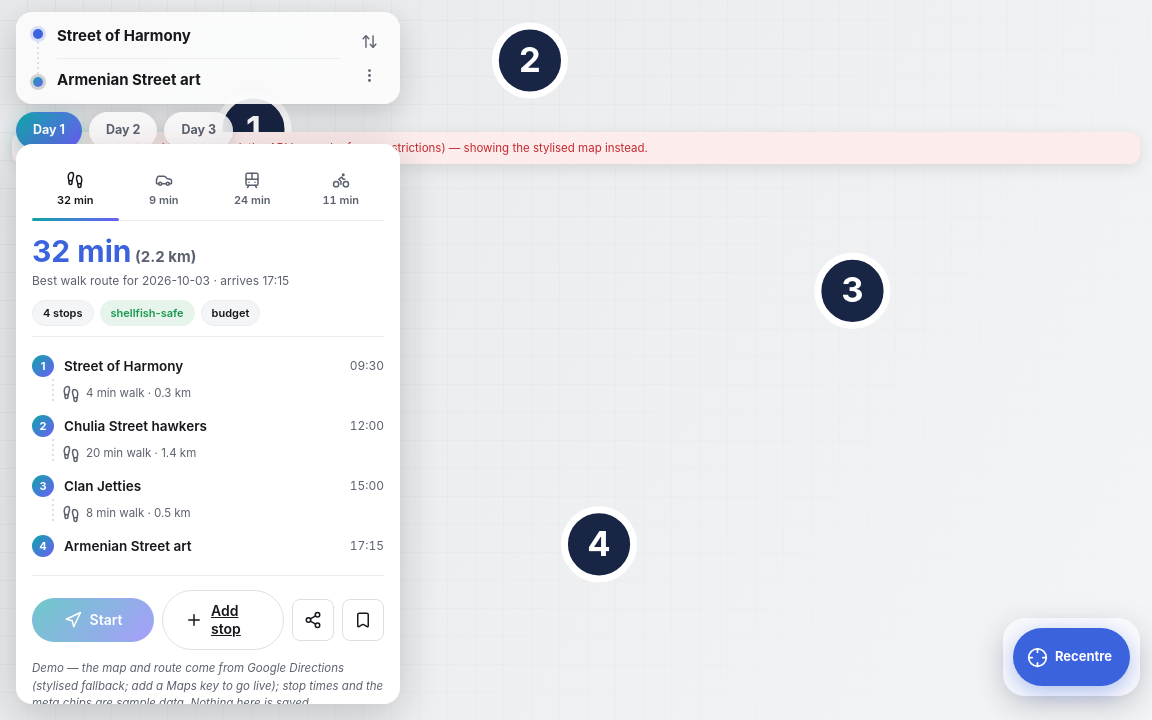
Test case: DemoMap route screen (no Maps key → fallback chrome) › re-times the summary when the travel mode changes
Click the tab with aria-label "Drive" at (164, 191), box x1=120 y1=162 x2=207 y2=220
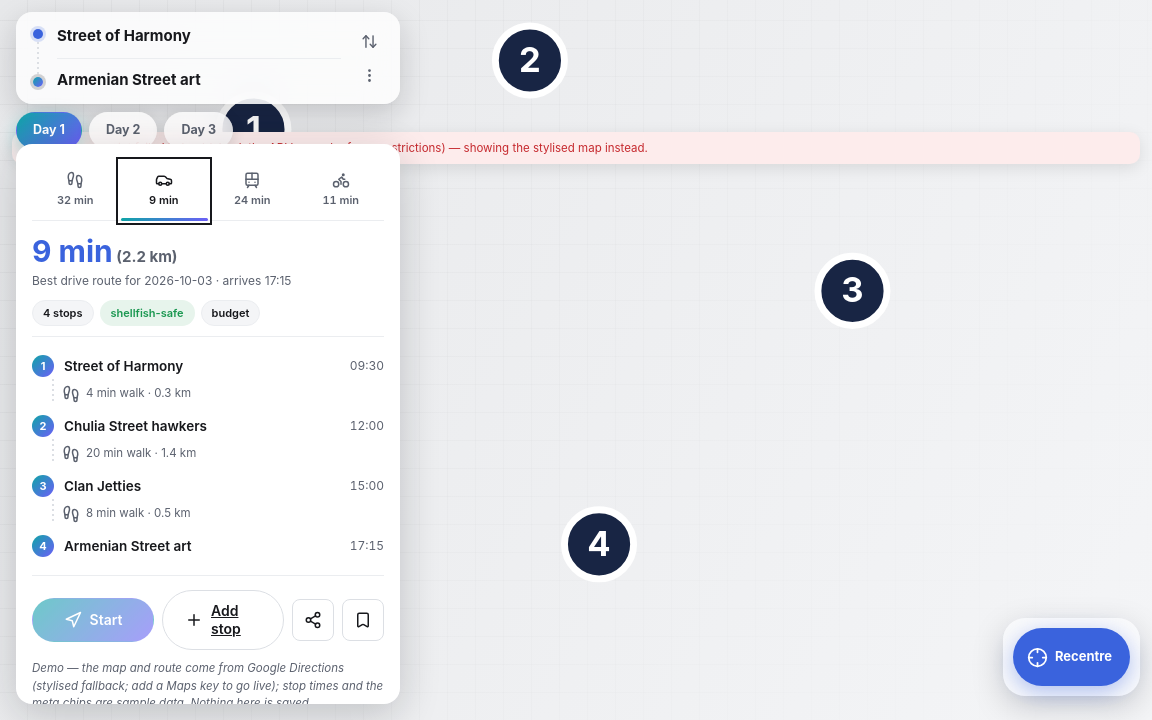
Expected: the element with class "map-summary-time" shows "9 min", x1=32 y1=232 x2=113 y2=268
